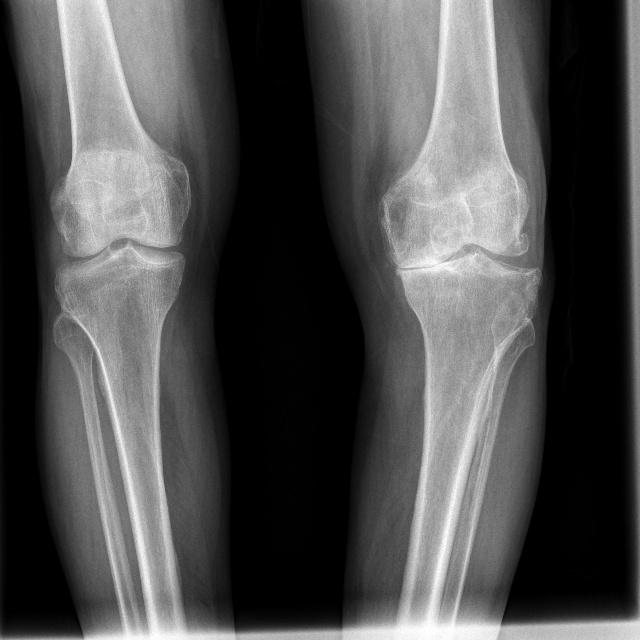Knee: (376, 198, 541, 328), (47, 189, 192, 310)
